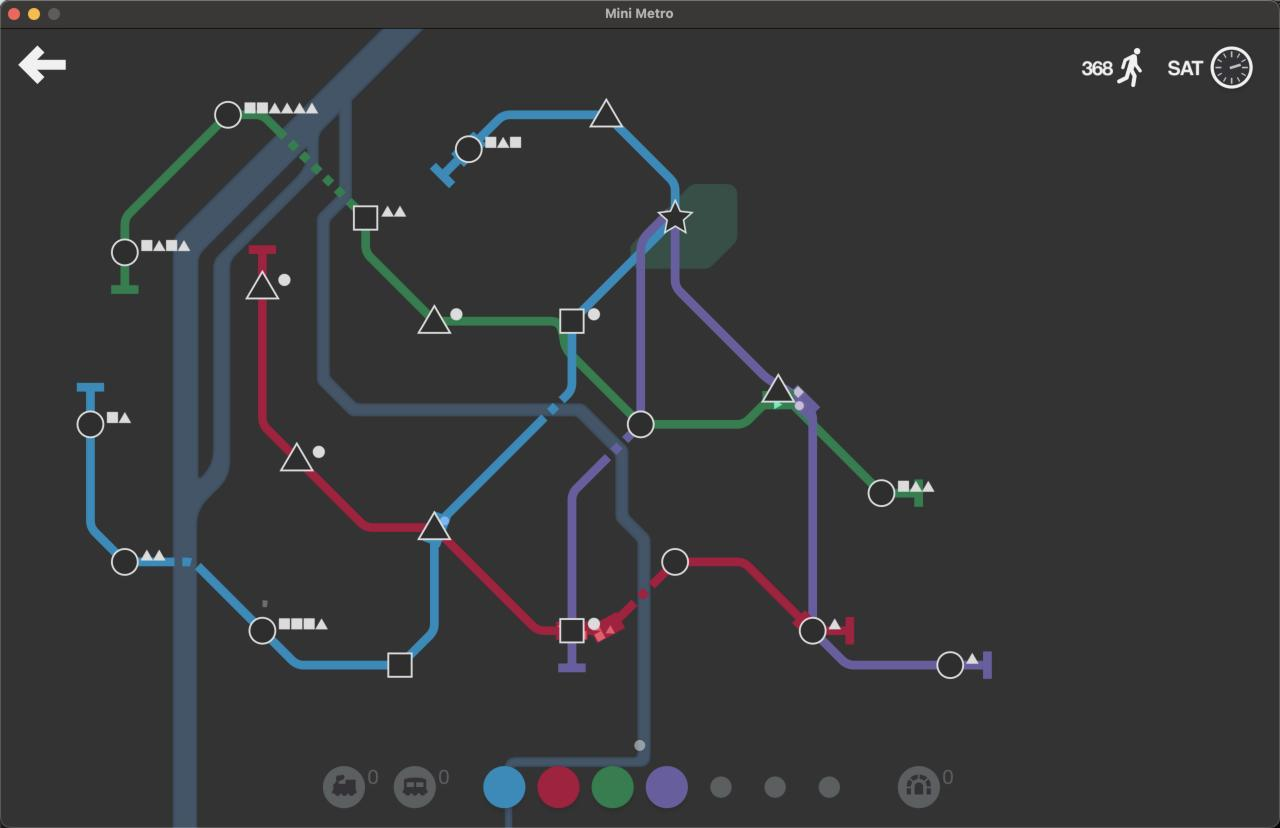CIRCLE: (867, 478, 897, 508), (626, 409, 655, 439), (110, 238, 140, 267), (454, 134, 483, 164), (213, 100, 243, 129), (798, 616, 827, 645), (936, 650, 964, 680), (248, 616, 276, 645), (111, 547, 139, 576), (76, 410, 105, 438), (661, 547, 689, 576)
SQUARE: (557, 617, 585, 645), (558, 307, 586, 335), (352, 204, 379, 231), (387, 651, 413, 678)
STAR: (657, 201, 693, 234)
TRIANGLE: (416, 510, 453, 543), (760, 372, 795, 406), (244, 269, 281, 301), (416, 304, 453, 335), (280, 441, 315, 473), (589, 97, 623, 129)
